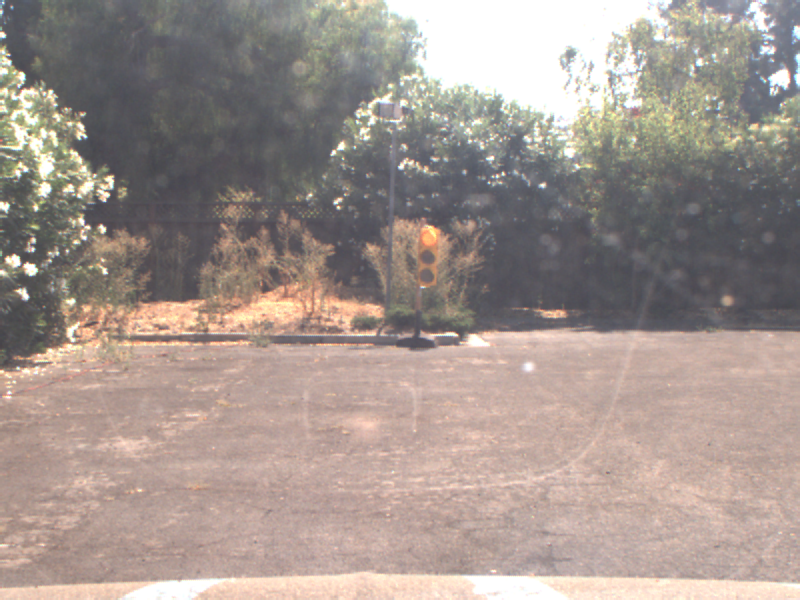red: (414, 221, 440, 289)
